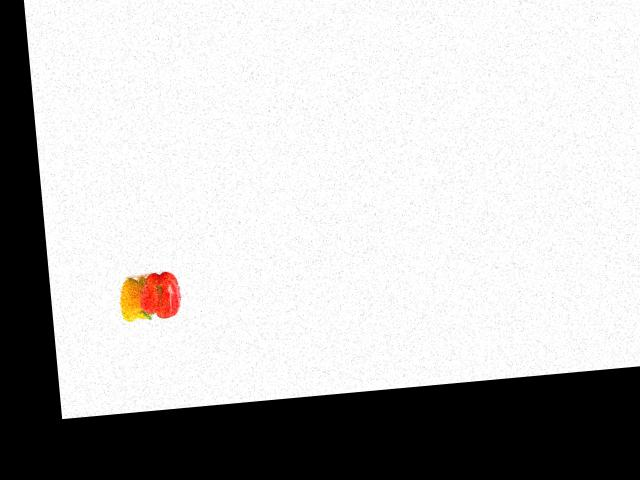bell_pepper: (116, 273, 157, 321)
